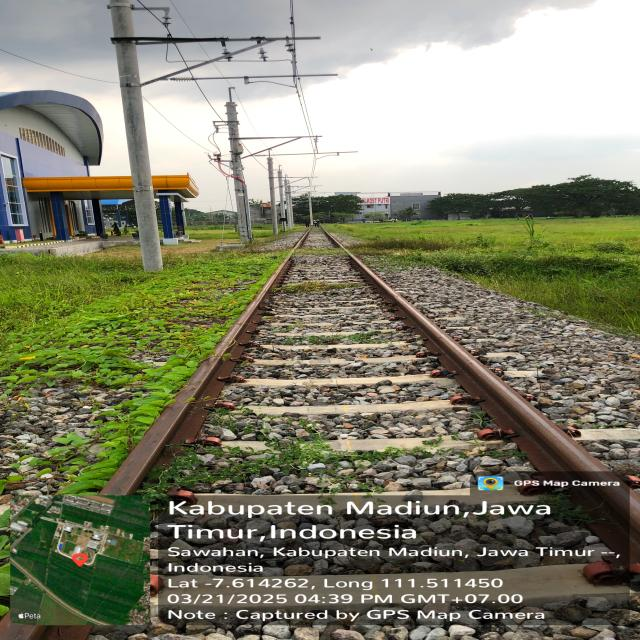rail-detection: (350, 254, 640, 567), (101, 256, 289, 494)
